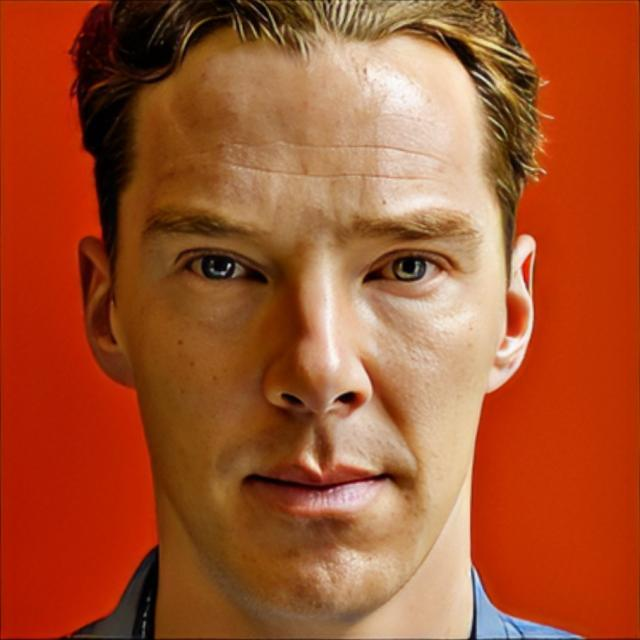neutral: (116, 13, 512, 621)
